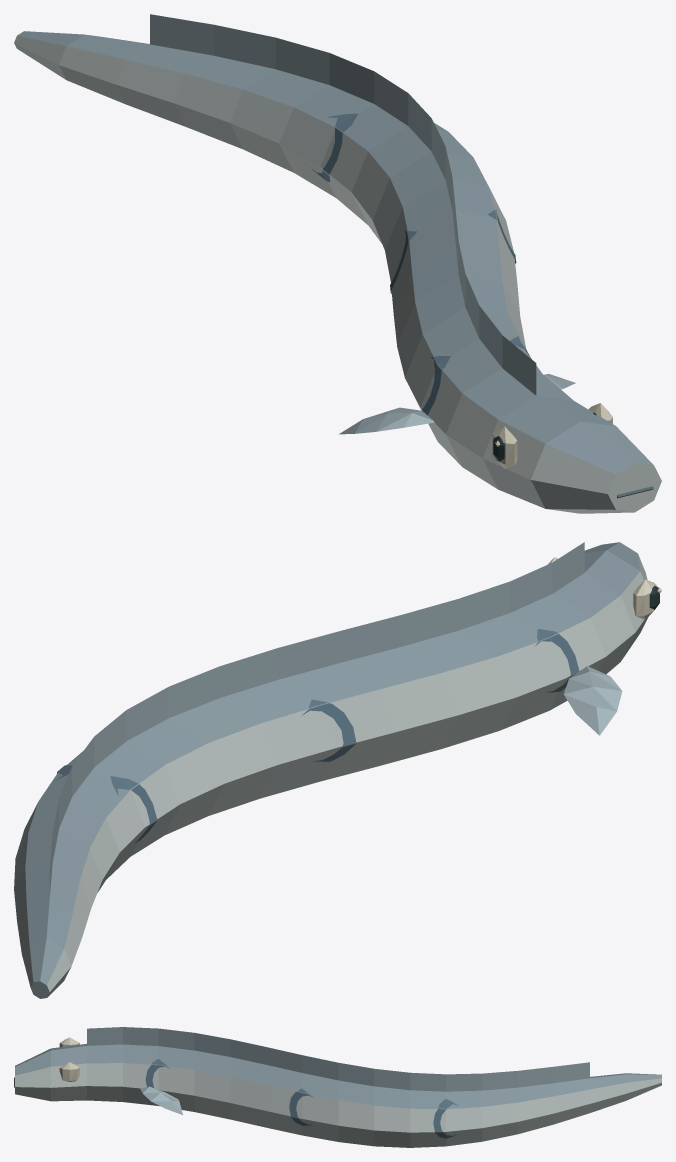
File: fish_mooneel.glb
3 views of the same model, one above another, from view 1: azimuth 30°, elevation 25°; view 2: azimuth 150°, elevation 25°; view 3: azimuth 270°, elevation 25° (orthographic). The views are drawn at different scales.
Visible parts, largest first — view 1: fish; view 2: fish; view 3: fish.
Part boxes in pixels (box(x1,y1,x2,y2)): fish: box(14, 14, 661, 513); fish: box(14, 542, 661, 998); fish: box(14, 1027, 661, 1147).
Size of the model in its own units: 0.3041 by 0.1254 by 0.9415.
